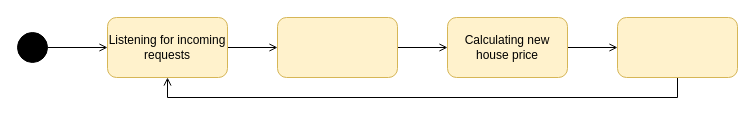
The diagram is 755 pixels wide and 123 high, and some of its shapes have lost their labels. The shapes that lost their labels are listed below. From the top down, each one's centre as x and y in pixels, then its label:
At [337,47]: "Waiting tax value".
At [677,47]: "Saving purchase data".
